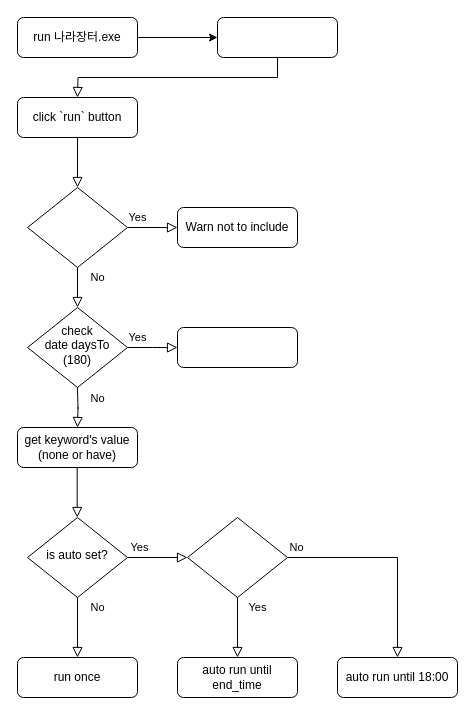
Image size: 475x715. Some labels were removed from this diagram. The centre of each missing label's shape, as x and y in pixels:
check end_time: point 237,557
check line_edit (@, $, &): point 77,227
fill blanks and choose date: point 277,37
Warn to set date again: point 237,347
